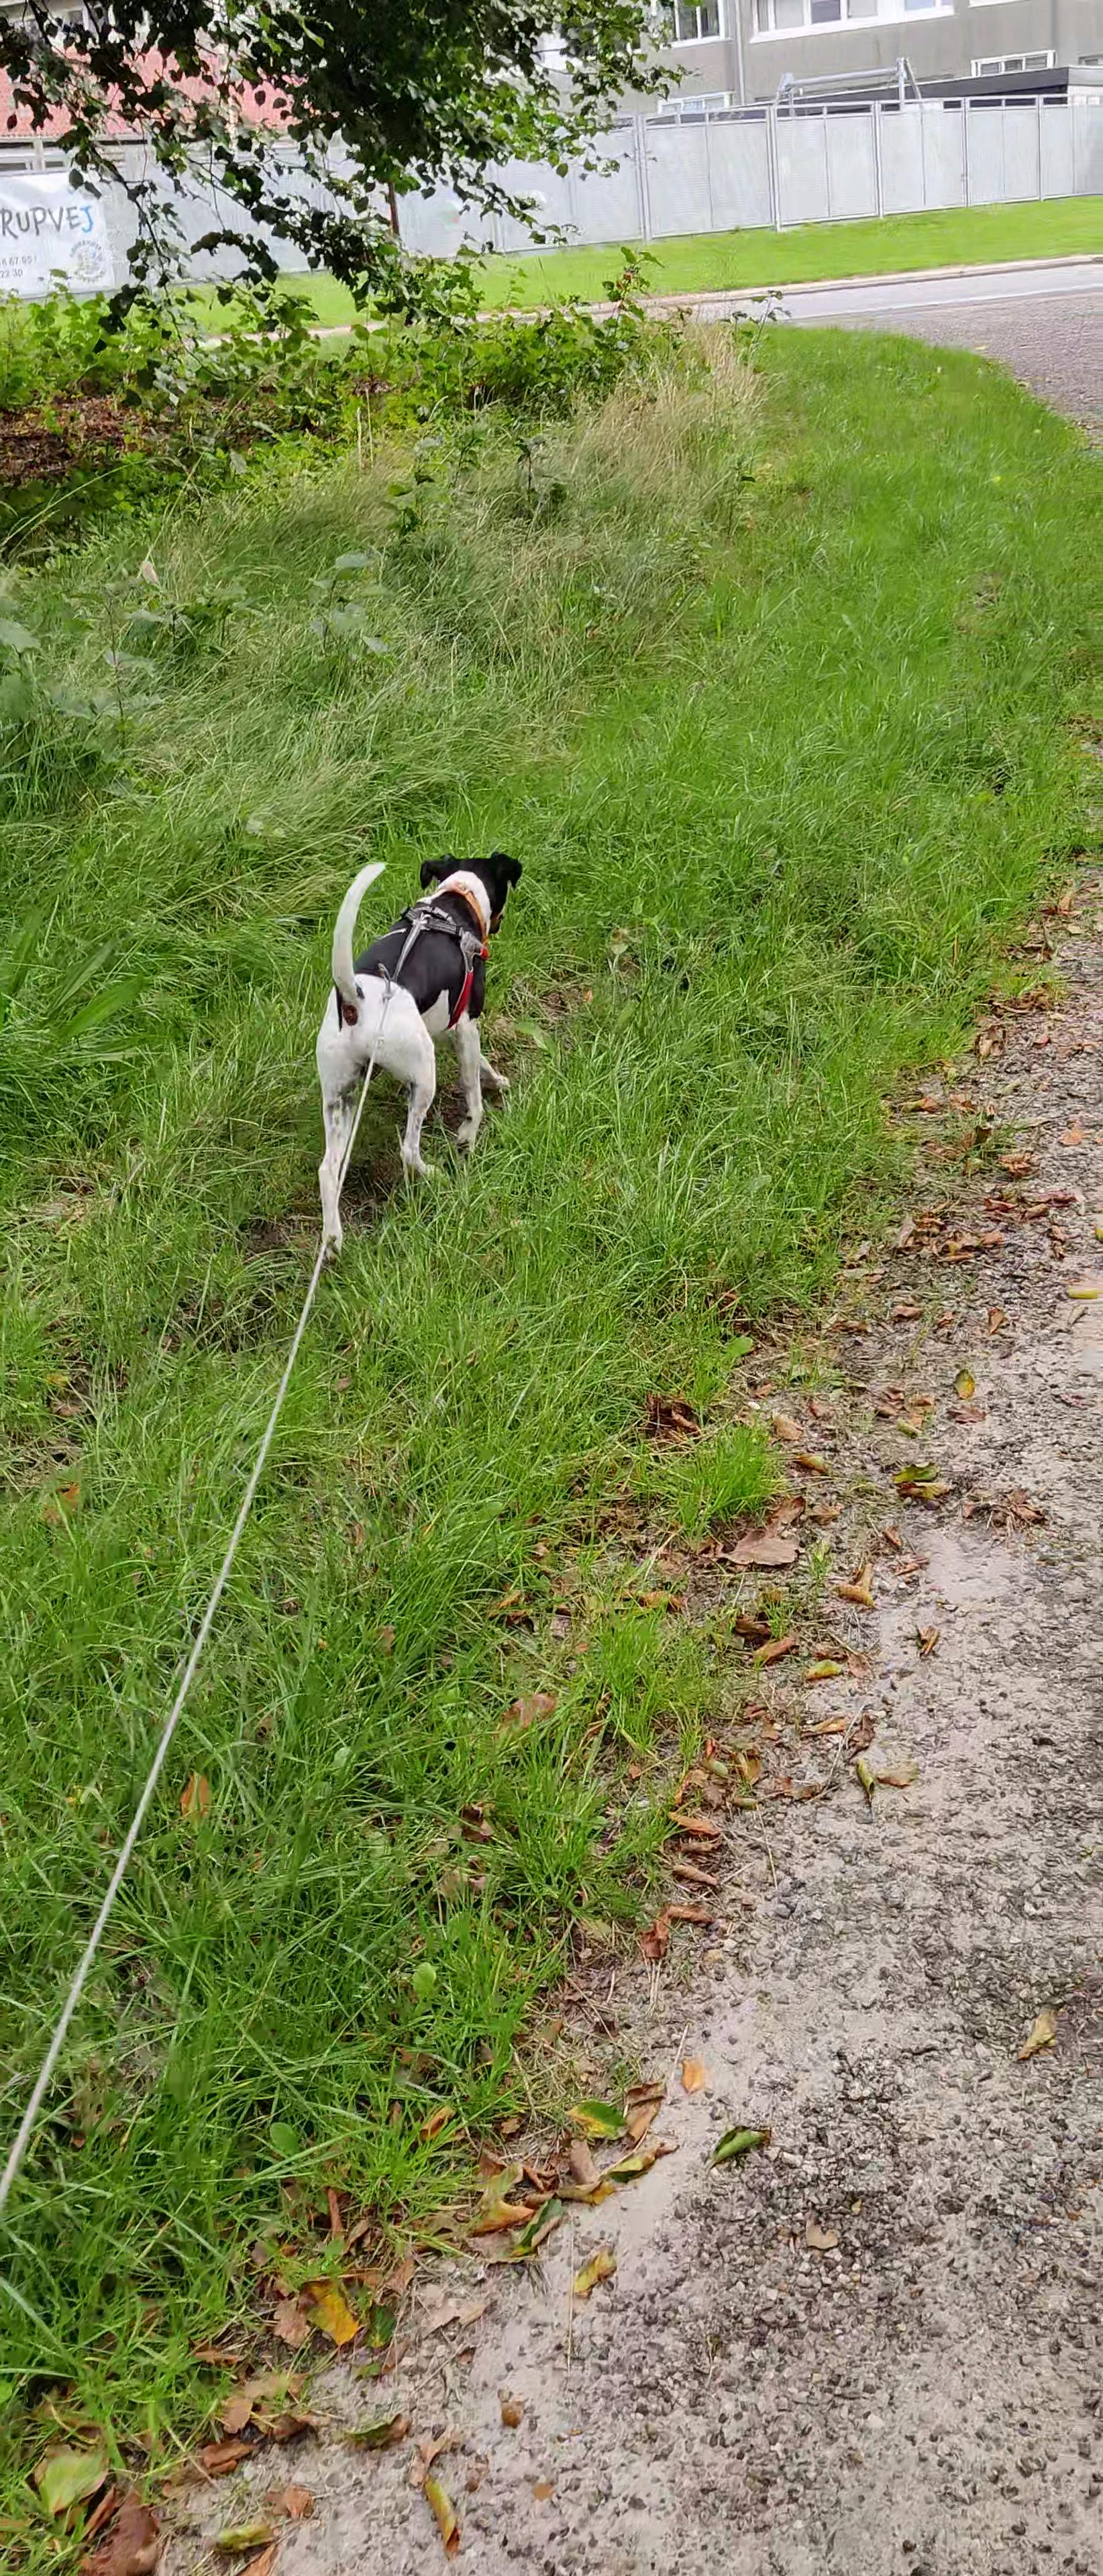Dog: (296, 846, 526, 1270)
